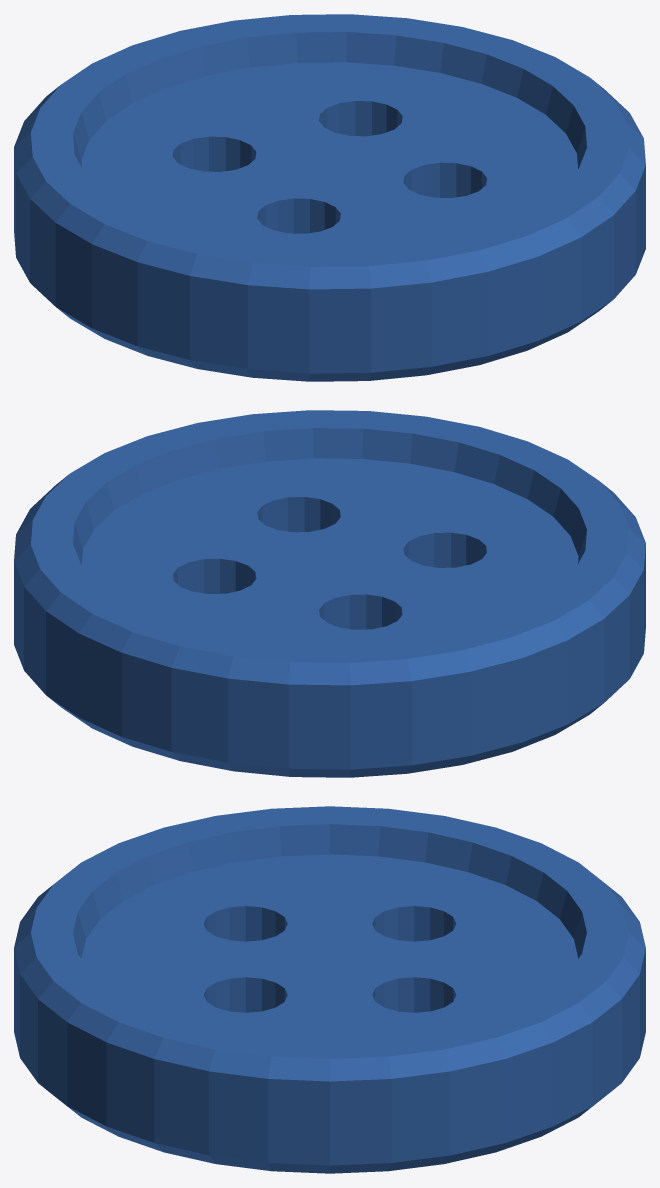
The model's file is button.glb.
3 views of the same model, one above another, from view 1: azimuth 30°, elevation 25°; view 2: azimuth 150°, elevation 25°; view 3: azimuth 270°, elevation 25° (orthographic).
Visible parts, largest first — view 1: Blue four-hole button; view 2: Blue four-hole button; view 3: Blue four-hole button.
Part boxes in pixels (x1,y1,x2,y2): Blue four-hole button: (14, 14, 645, 381); Blue four-hole button: (14, 410, 645, 777); Blue four-hole button: (14, 806, 645, 1173).
Bounding box in the file's own units: 0.015 × 0.003 × 0.015.
